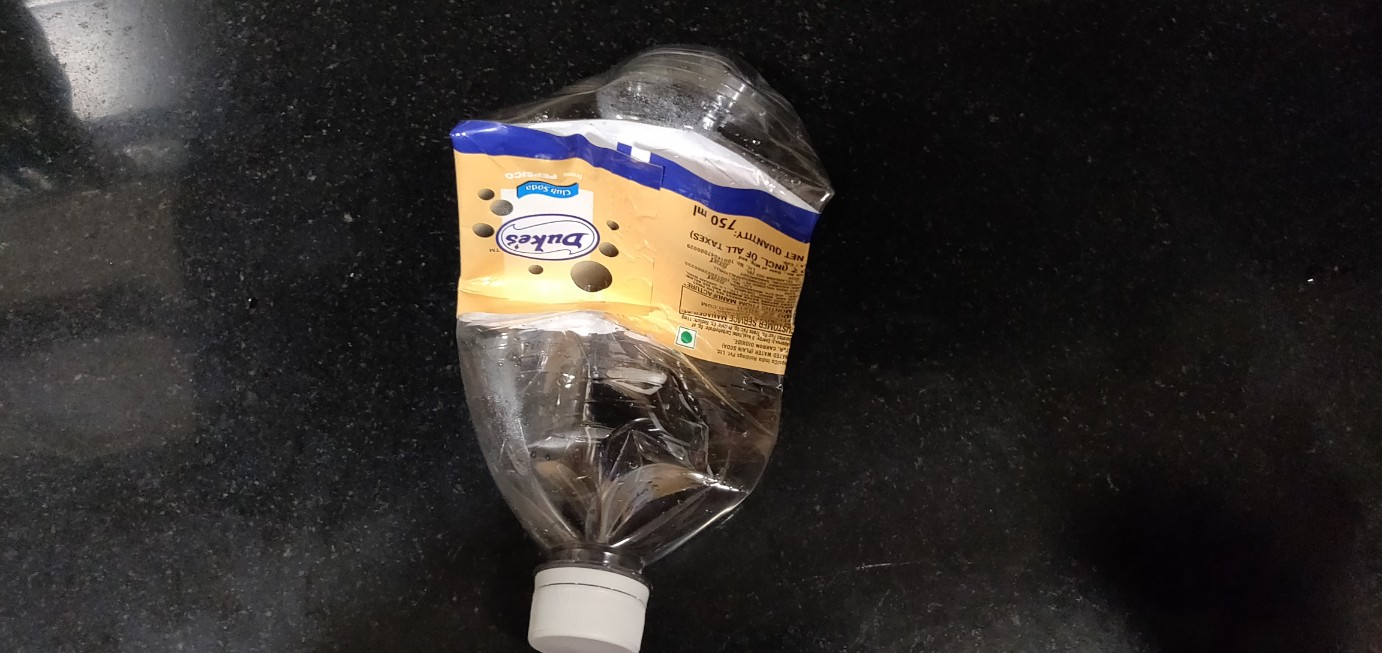Electronics: (413, 15, 855, 651)
